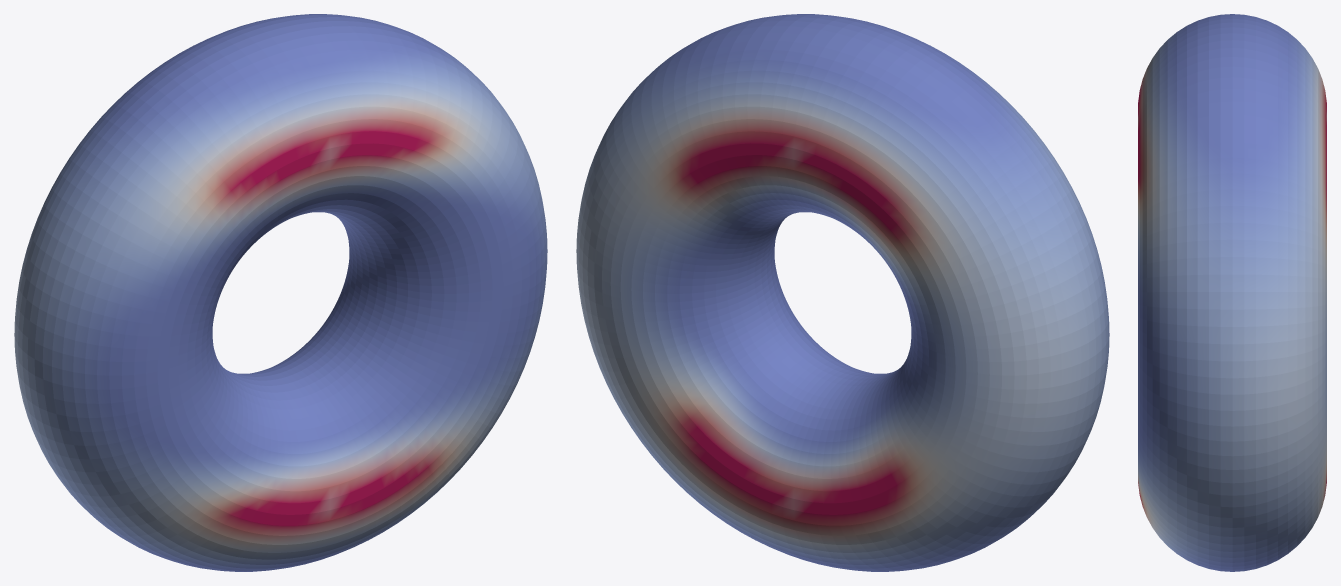
The picture shows the model from 3 angles, left to right: view 1: azimuth 30°, elevation 25°; view 2: azimuth 150°, elevation 25°; view 3: azimuth 270°, elevation 25°; orthographic projection. The views are drawn at different scales.
Parts seen in each view (by area): view 1: world; view 2: world; view 3: world.
Part boxes in pixels (x1,y1,x2,y2): world: [14, 14, 547, 571]; world: [576, 14, 1109, 571]; world: [1138, 14, 1326, 571].
Bounding box in the file's own units: 16.13 × 16.13 × 5.46.
